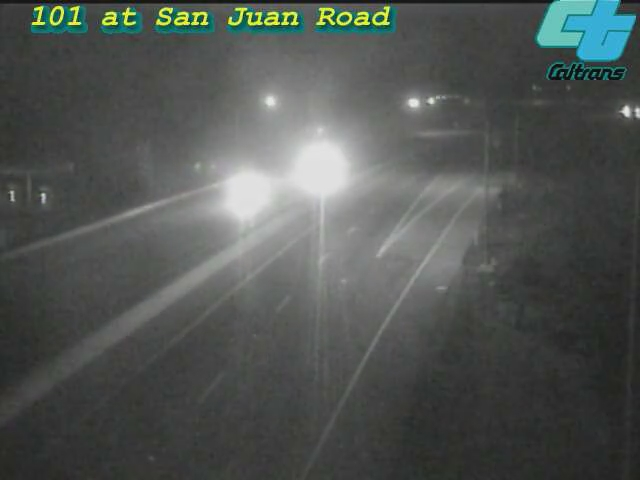vehicle: (204, 148, 284, 228), (281, 127, 361, 207), (601, 87, 640, 137), (612, 90, 640, 140)
